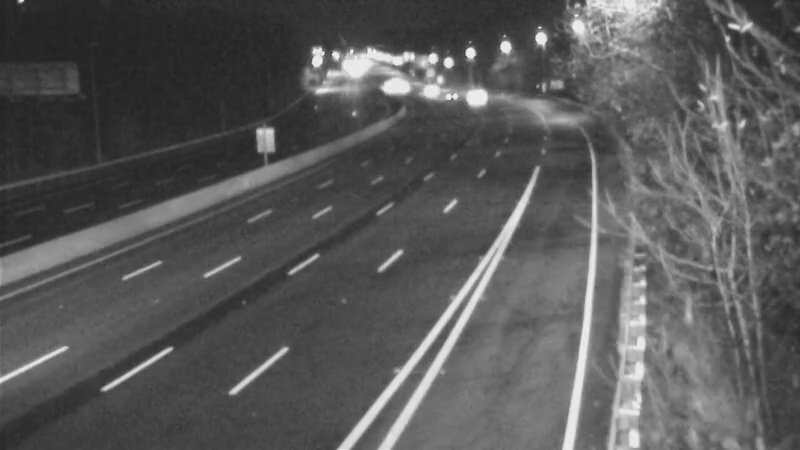vehicle: (364, 63, 414, 113), (404, 64, 454, 114), (424, 70, 474, 120), (444, 72, 494, 122)
